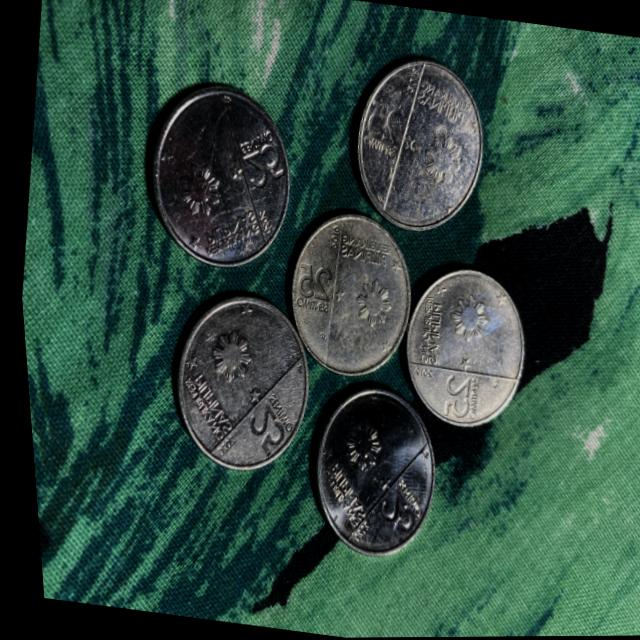25Cent_New_Front: (231, 402, 284, 458), (369, 486, 414, 545), (237, 138, 288, 189), (361, 97, 406, 146), (289, 256, 332, 303), (433, 370, 469, 421)
